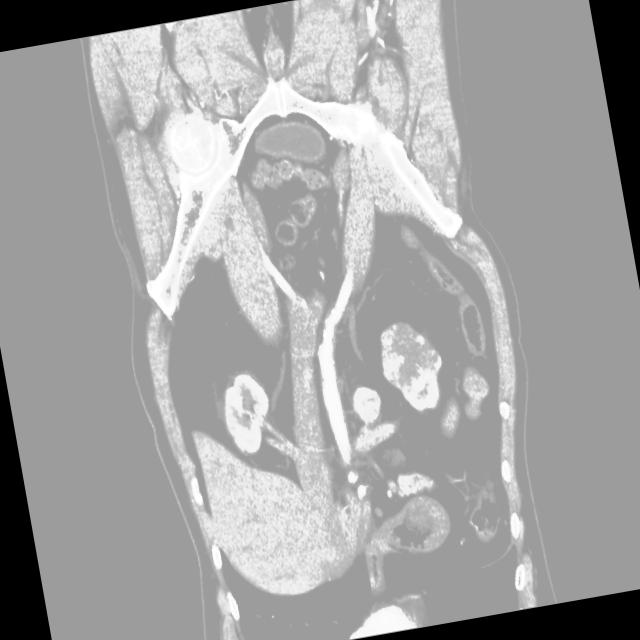TUMOR: (165, 270, 486, 517)
